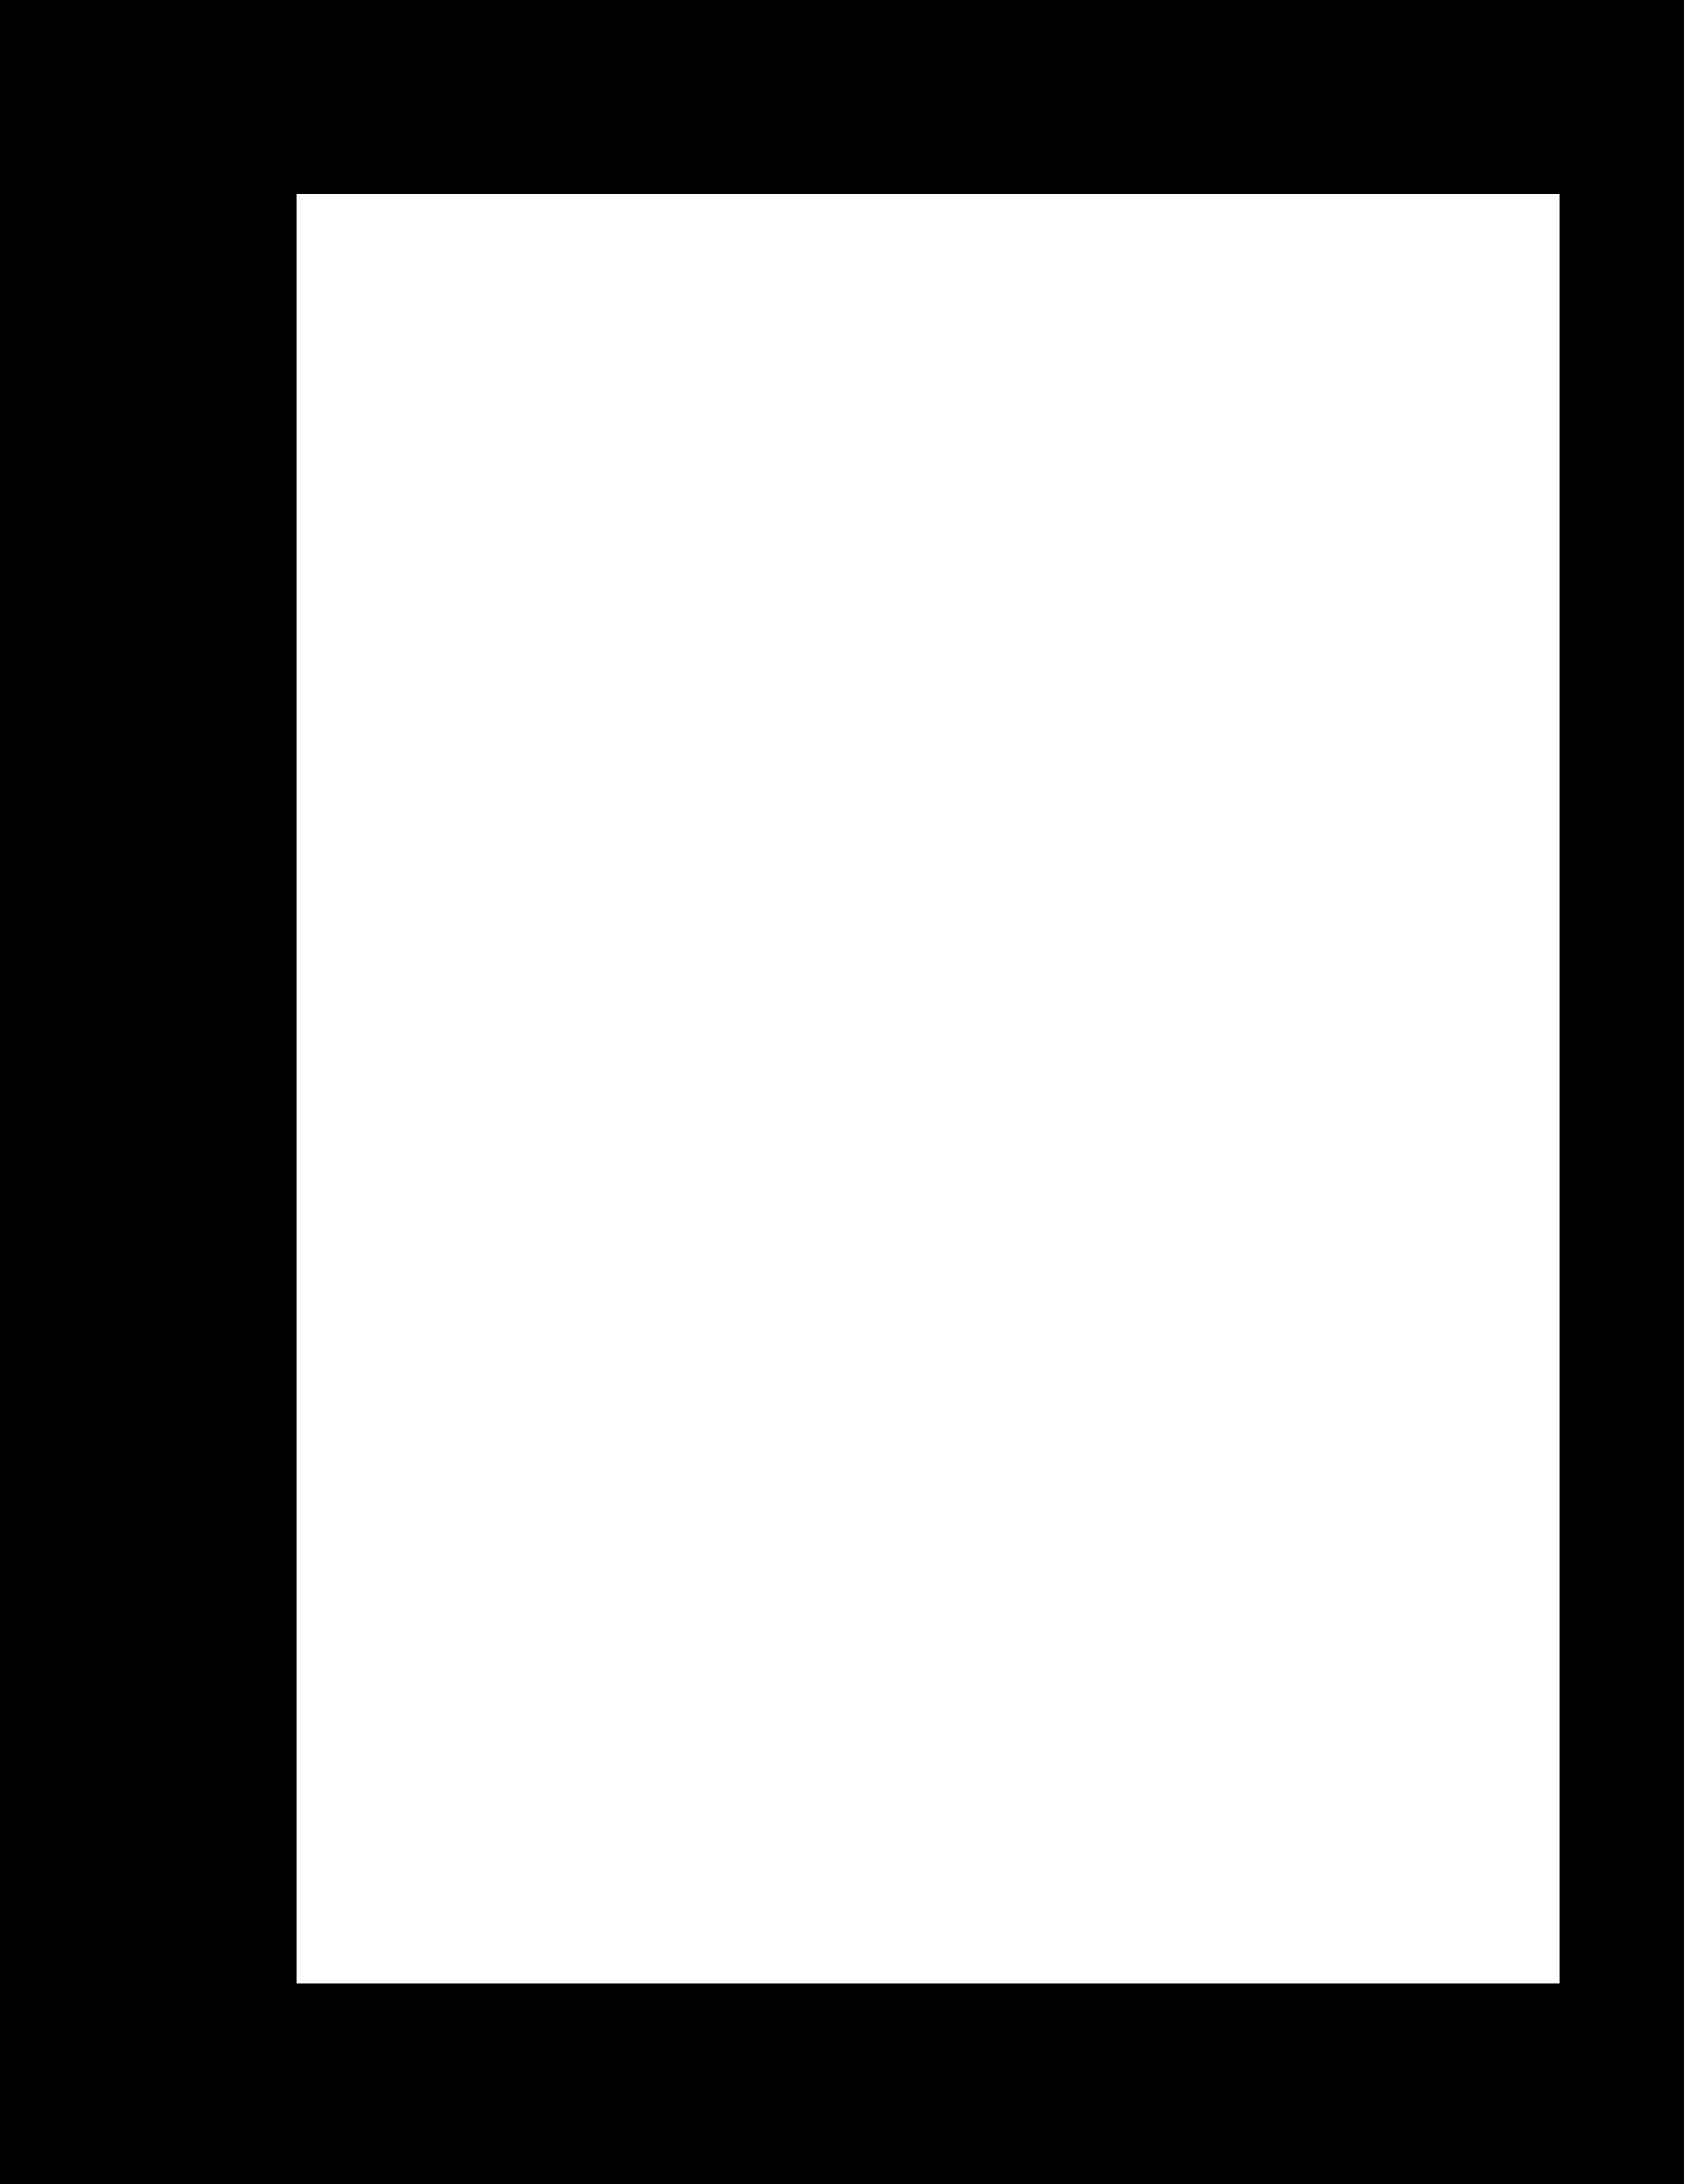table: (297, 195, 1558, 1982)
